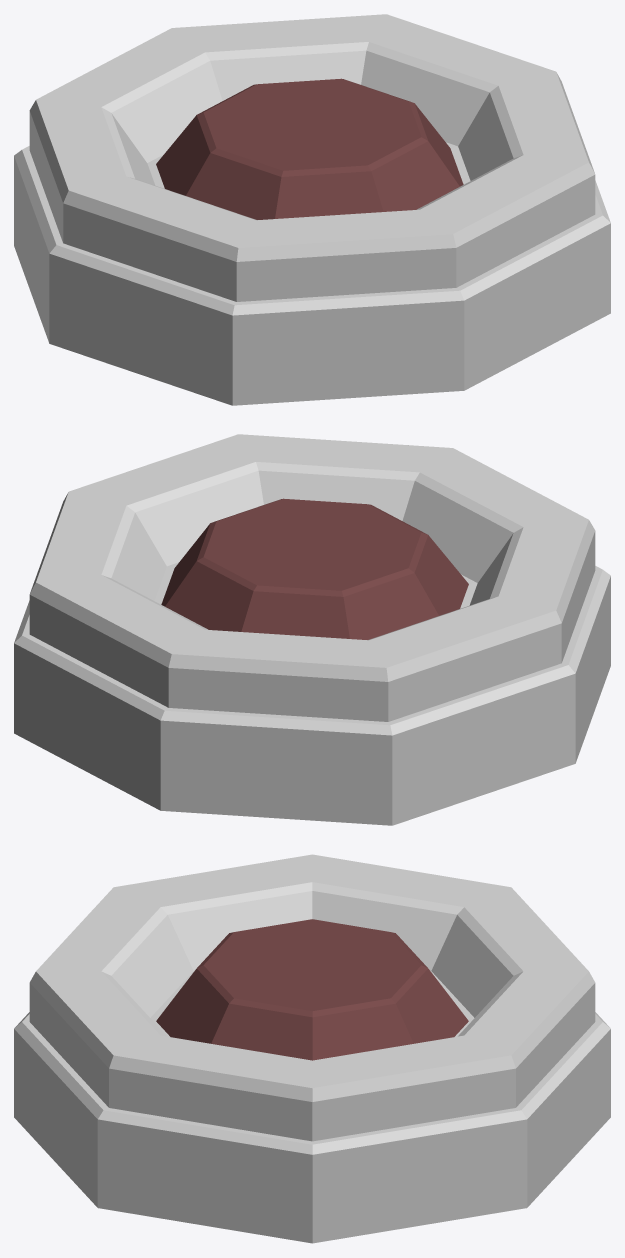
The model's file is ColorGem.fbx.
3 views of the same model, one above another, from view 1: azimuth 30°, elevation 25°; view 2: azimuth 150°, elevation 25°; view 3: azimuth 270°, elevation 25° (orthographic).
Parts seen in each view (by area): view 1: Cube; view 2: Cube; view 3: Cube.
Part boxes in pixels (bbox=[...]): Cube: bbox=[14, 14, 610, 405]; Cube: bbox=[14, 434, 610, 825]; Cube: bbox=[14, 854, 610, 1243].
Size of the model in its own units: 278 by 78.19 by 278.
